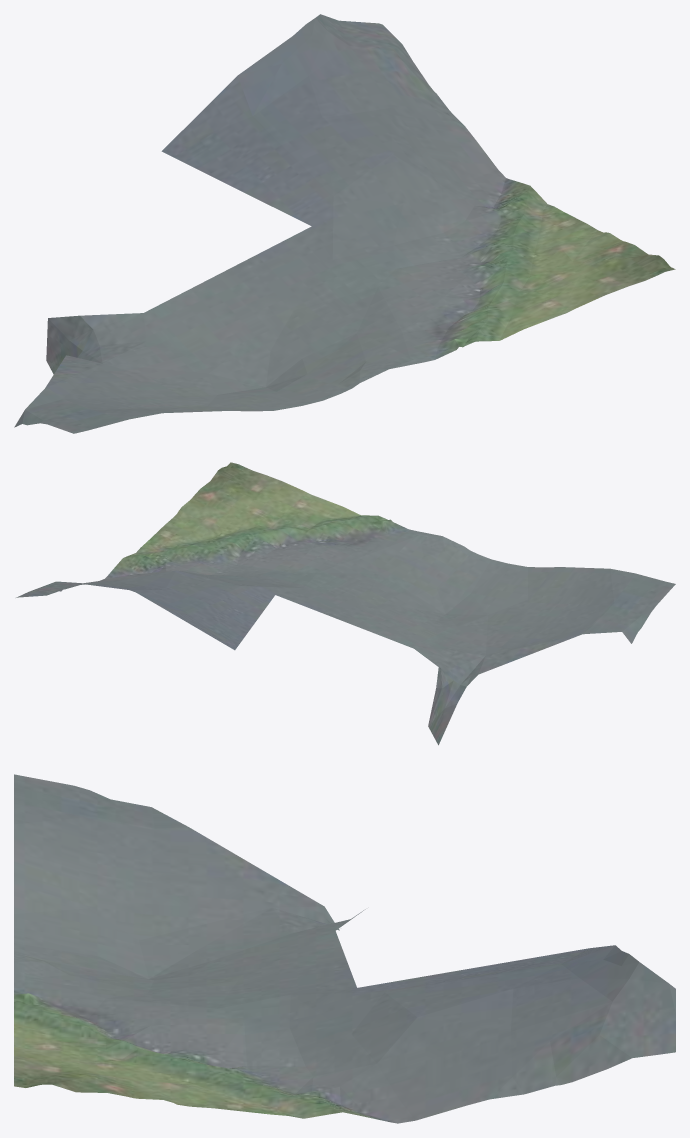
File: Tile_+000_+005_L20_000110.glb
3 views of the same model, one above another, from view 1: azimuth 30°, elevation 25°; view 2: azimuth 150°, elevation 25°; view 3: azimuth 270°, elevation 25° (orthographic). The views are drawn at different scales.
Visible parts, largest first — view 1: rtc; view 2: rtc; view 3: rtc.
Part boxes in pixels (x1,y1,x2,y2): rtc: (14, 14, 675, 433); rtc: (16, 462, 675, 745); rtc: (14, 774, 675, 1123).
Size of the model in its own units: 30.48 by 11.11 by 25.69.
Materials: 1 (1 with a texture image).
